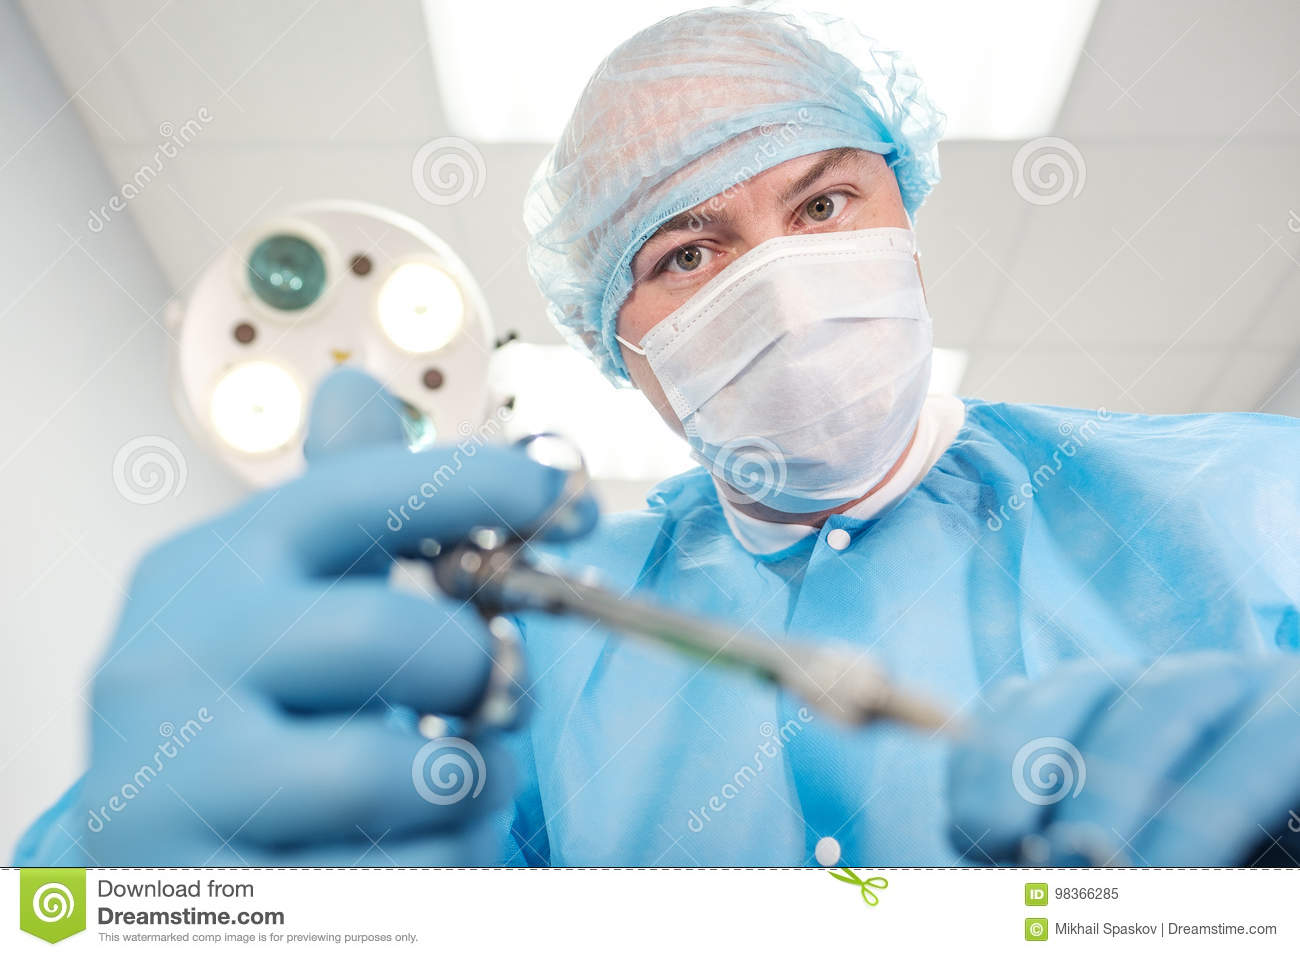mask: (640, 227, 980, 483)
